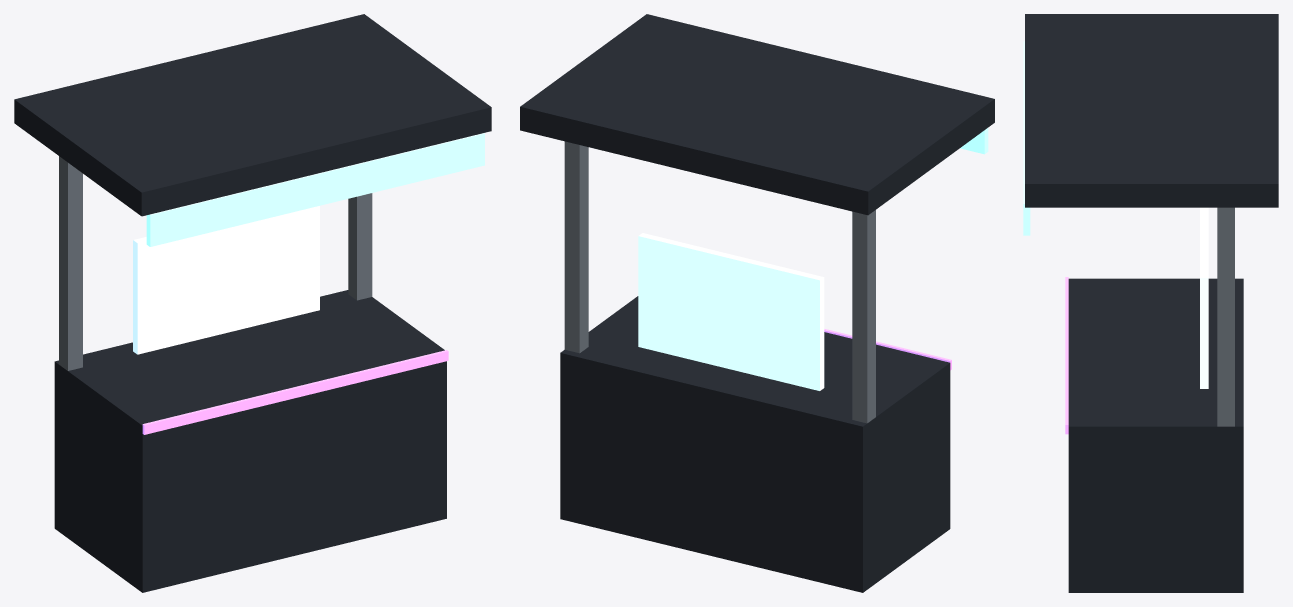
The model's file is nc_holo_kiosk.glb.
3 renders of one model, left to right at view 1: azimuth 30°, elevation 25°; view 2: azimuth 150°, elevation 25°; view 3: azimuth 270°, elevation 25°, orthographic.
Visible parts, largest first — view 1: nc_holo_kiosk; view 2: nc_holo_kiosk; view 3: nc_holo_kiosk.
Part boxes in pixels (x1,y1,x2,y2): nc_holo_kiosk: (14, 14, 491, 592); nc_holo_kiosk: (520, 14, 994, 592); nc_holo_kiosk: (1023, 14, 1278, 592).
Size of the model in its own units: 2.3 by 2.65 by 1.46.
